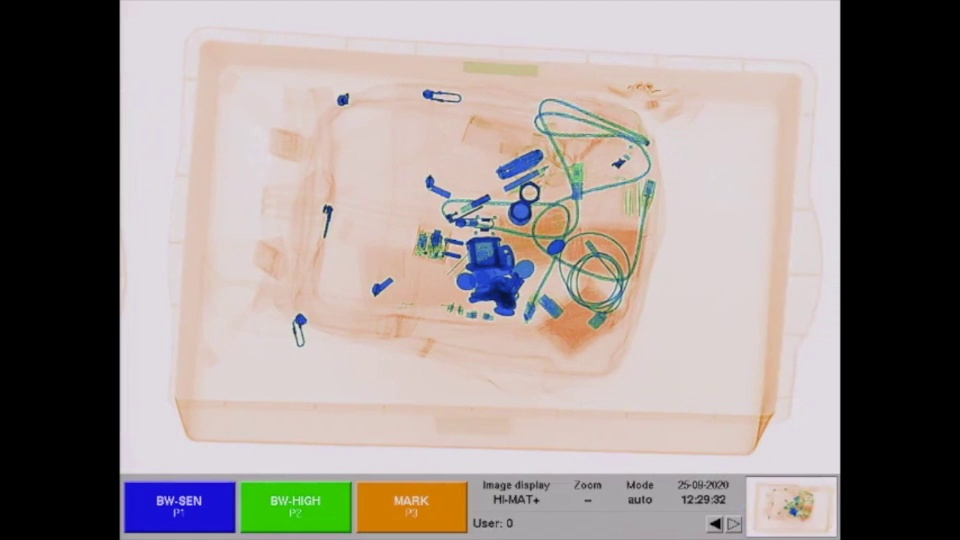tray_img: (153, 21, 825, 463)
